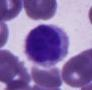L: (22, 23, 70, 64)
